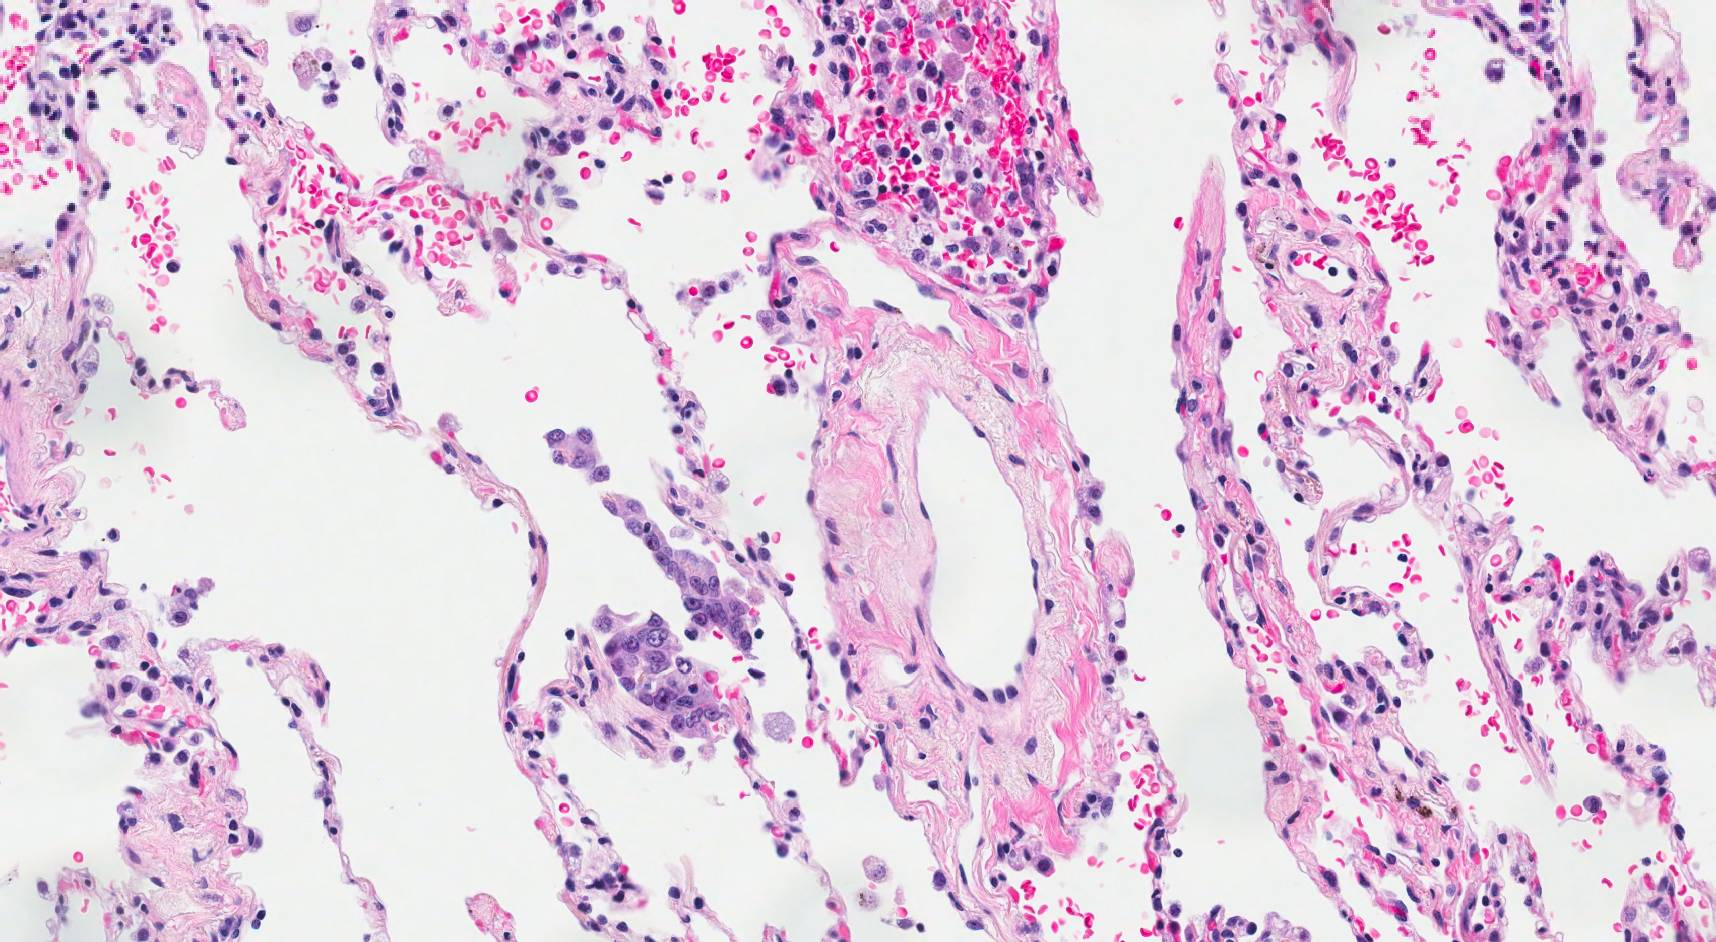stas: (601, 490, 761, 658), (595, 606, 733, 740), (542, 428, 612, 482)
